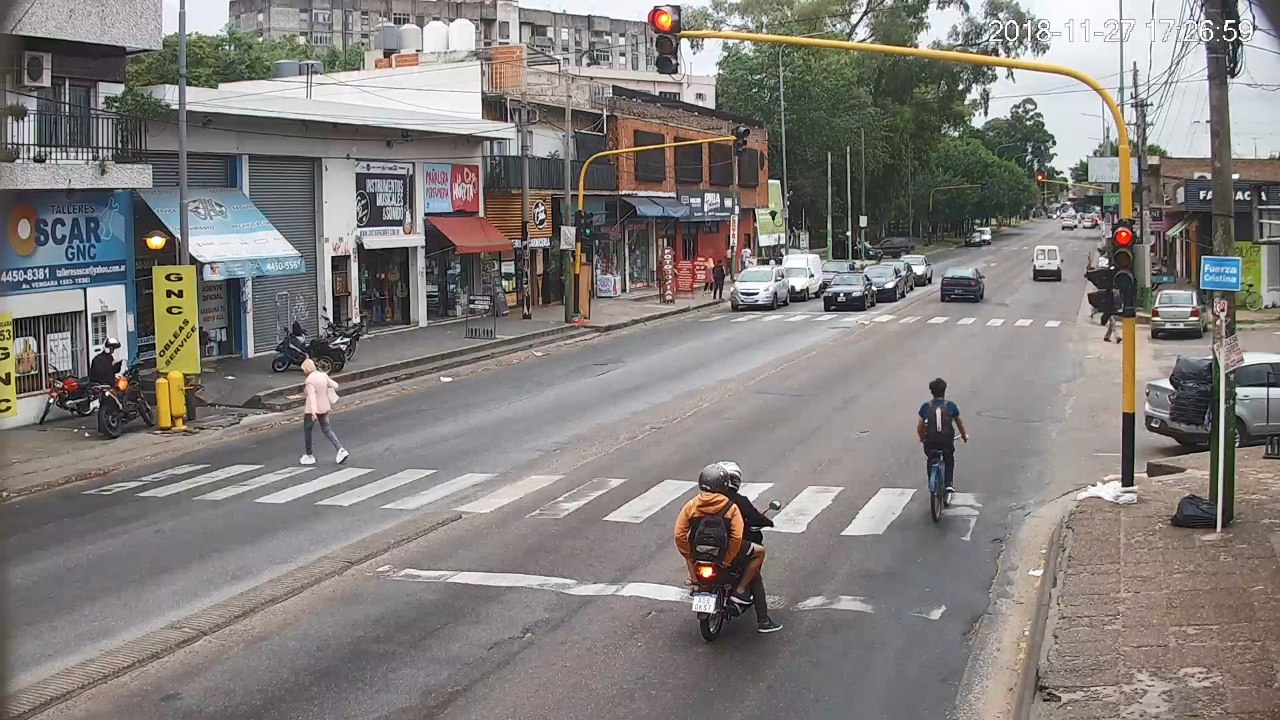bicycle: (919, 377, 969, 523)
car: (941, 267, 987, 303), (1031, 246, 1064, 282)
motorcycle: (675, 498, 781, 640)
person: (299, 358, 349, 468)
traffic light: (657, 6, 680, 74), (1113, 225, 1134, 289)
